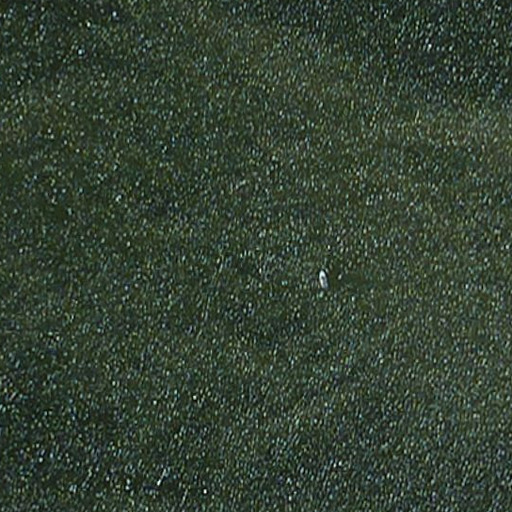ship: (315, 267, 332, 294)
